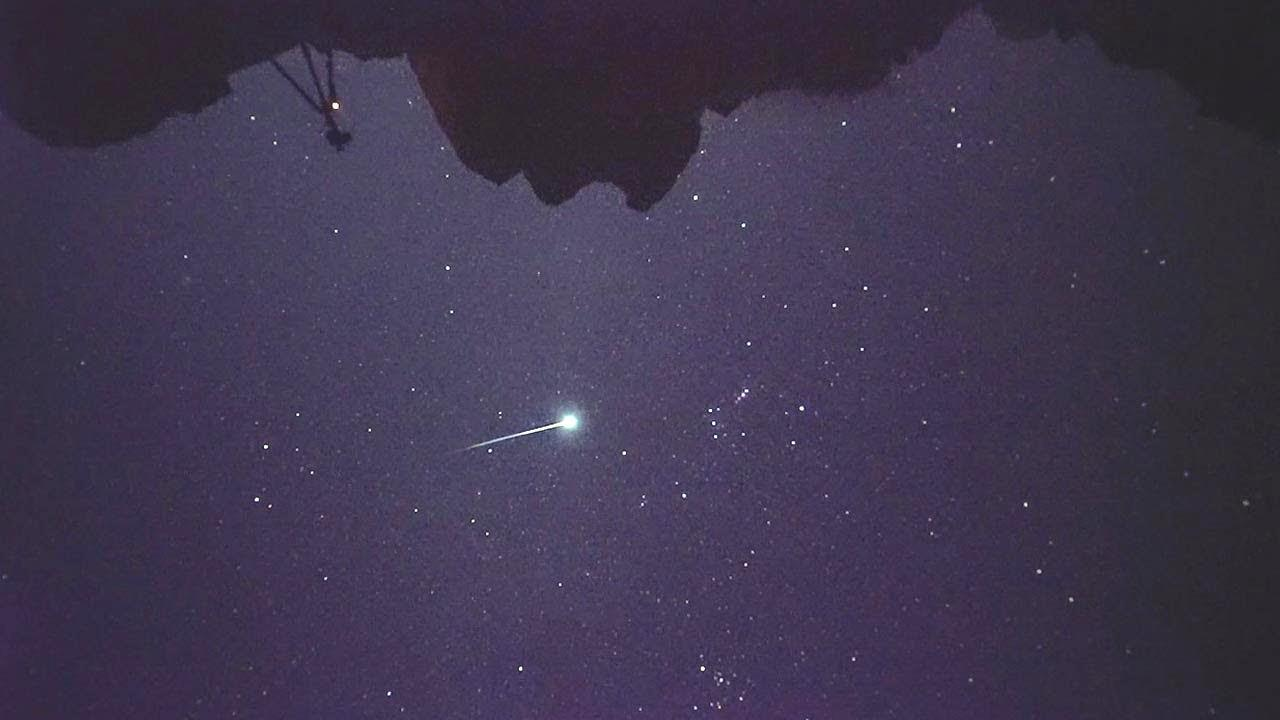meteorite: (427, 392, 634, 466)
